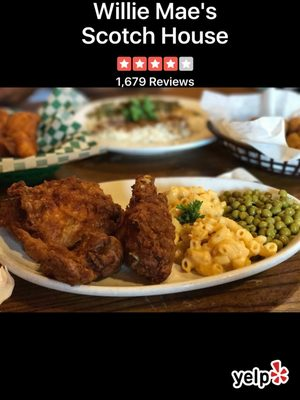curry: (174, 198, 205, 224)
